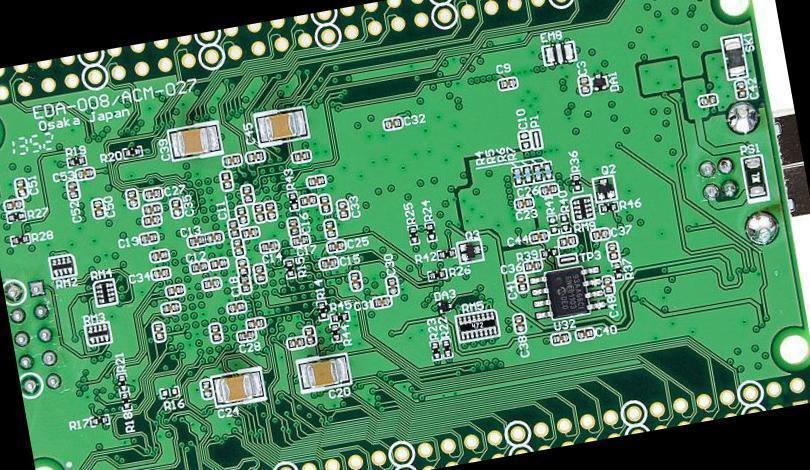Capacitor: (295, 352, 350, 393), (210, 368, 265, 407), (167, 121, 222, 159), (254, 106, 308, 144), (575, 73, 591, 96), (334, 199, 349, 222), (221, 152, 242, 168), (381, 115, 403, 130), (289, 148, 311, 163), (316, 192, 331, 214), (321, 216, 336, 238), (200, 275, 222, 290), (244, 315, 266, 330), (548, 330, 570, 345), (604, 239, 618, 262), (302, 324, 316, 347), (124, 187, 139, 208), (324, 237, 345, 252), (225, 299, 246, 314), (151, 321, 166, 342), (218, 169, 232, 191), (90, 197, 104, 219), (140, 213, 162, 227), (252, 201, 266, 223), (137, 231, 159, 245), (230, 235, 244, 257), (206, 256, 228, 270), (348, 269, 362, 291), (198, 377, 212, 399), (204, 229, 224, 244), (150, 265, 170, 280), (285, 334, 305, 349), (496, 76, 517, 90), (13, 176, 27, 197), (733, 78, 747, 99), (696, 92, 717, 106), (297, 192, 318, 206), (148, 248, 169, 262), (258, 239, 279, 253), (512, 196, 533, 210), (252, 262, 266, 283), (527, 229, 548, 243), (159, 300, 180, 314), (384, 274, 398, 295), (208, 322, 222, 343), (514, 271, 528, 292), (235, 328, 256, 342), (512, 312, 526, 333), (318, 255, 337, 270), (522, 257, 541, 272), (66, 179, 80, 199), (305, 174, 325, 188), (226, 217, 240, 237), (239, 225, 259, 239), (286, 217, 300, 237), (188, 259, 208, 273), (371, 294, 391, 308), (235, 204, 248, 225), (289, 233, 310, 246), (75, 165, 94, 179), (143, 186, 162, 200), (186, 233, 205, 247), (165, 283, 184, 297), (575, 326, 594, 340), (141, 201, 161, 214), (169, 197, 182, 217), (600, 274, 613, 294), (234, 256, 248, 274), (591, 227, 609, 241), (245, 150, 264, 163), (3, 197, 22, 210), (240, 184, 253, 203), (539, 182, 558, 195), (557, 234, 576, 247), (239, 274, 251, 291)
Connector: (0, 0, 738, 111), (41, 369, 809, 469), (0, 154, 8, 205)
Diode: (587, 69, 608, 91), (436, 297, 454, 314)
Electrolytic Capacitor: (262, 199, 277, 220)
IC: (524, 261, 607, 320)
Pads: (539, 41, 575, 65), (157, 383, 180, 398), (517, 129, 531, 151)
Pins: (1, 269, 67, 403), (693, 151, 742, 207), (737, 204, 783, 253), (718, 95, 762, 136)
Resistor: (453, 309, 499, 342), (92, 278, 117, 306), (83, 320, 111, 345), (48, 253, 75, 278), (569, 194, 594, 221), (427, 336, 441, 360), (439, 336, 452, 359), (435, 246, 456, 260), (557, 211, 570, 233), (65, 154, 85, 168), (121, 144, 141, 158), (569, 171, 582, 192), (423, 219, 436, 240), (4, 209, 24, 222), (286, 191, 299, 211), (538, 245, 558, 258), (546, 214, 558, 235), (9, 233, 29, 245), (511, 165, 523, 185), (406, 225, 418, 245), (426, 268, 446, 280), (315, 299, 327, 319), (532, 162, 543, 183), (89, 414, 108, 426), (283, 258, 294, 278), (330, 322, 341, 342), (599, 201, 617, 213), (330, 311, 348, 323), (116, 372, 128, 390), (522, 164, 533, 183), (542, 161, 553, 180), (119, 390, 130, 409), (612, 261, 622, 279)
Transistor: (456, 237, 482, 263), (592, 175, 616, 202)
